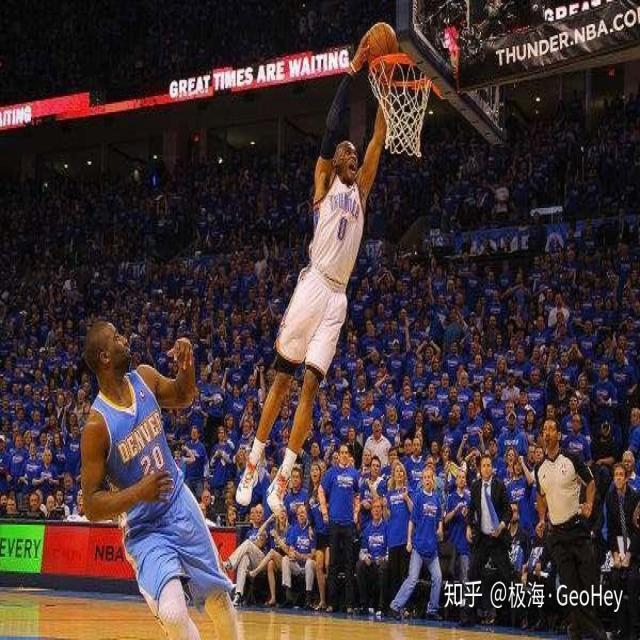rim: (360, 23, 397, 70)
